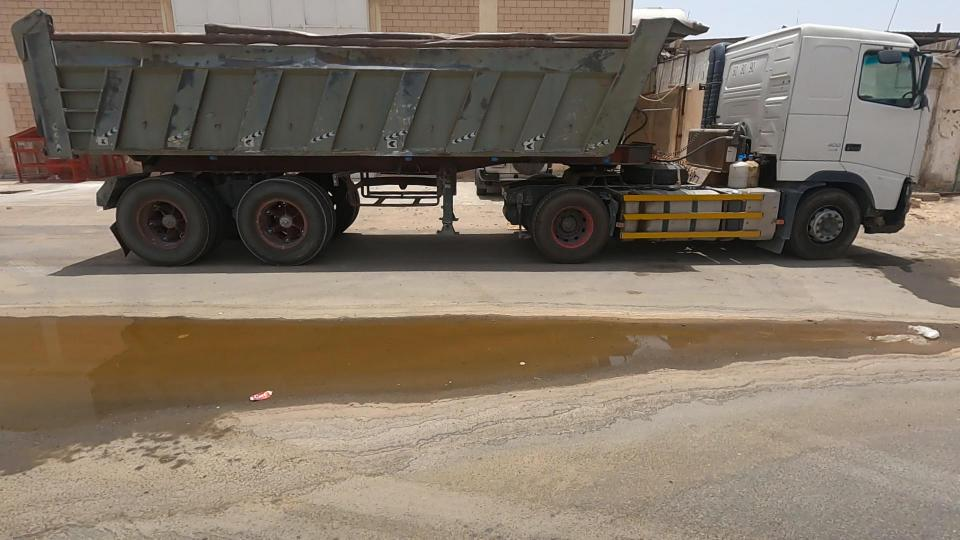GARBAGE: (151, 355, 349, 444), (827, 284, 960, 382)
